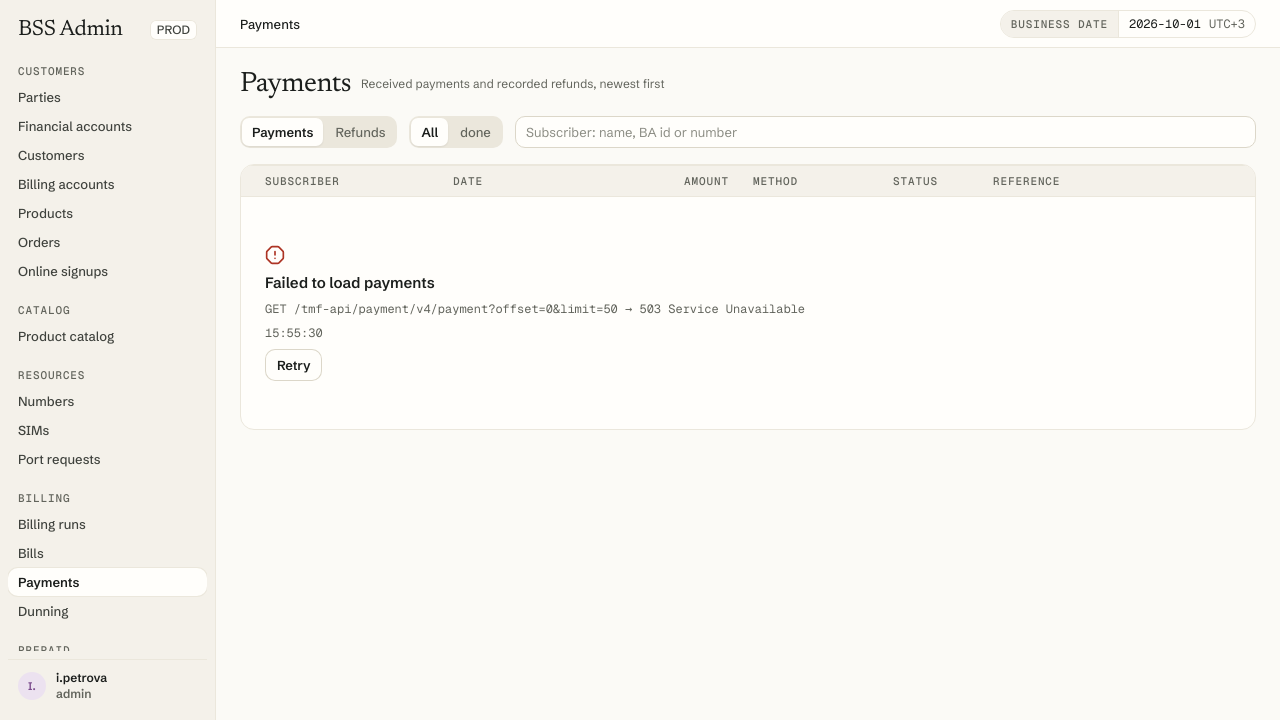
Scenario: payments screen › shows the error with Retry and the empty state
The width and height of the screenshot is (1280, 720).
Expected: the text "Failed to load payments" is shown, [265,273,435,293]
Click the button "Retry".
click(294, 365)  # box [265,349,322,381]
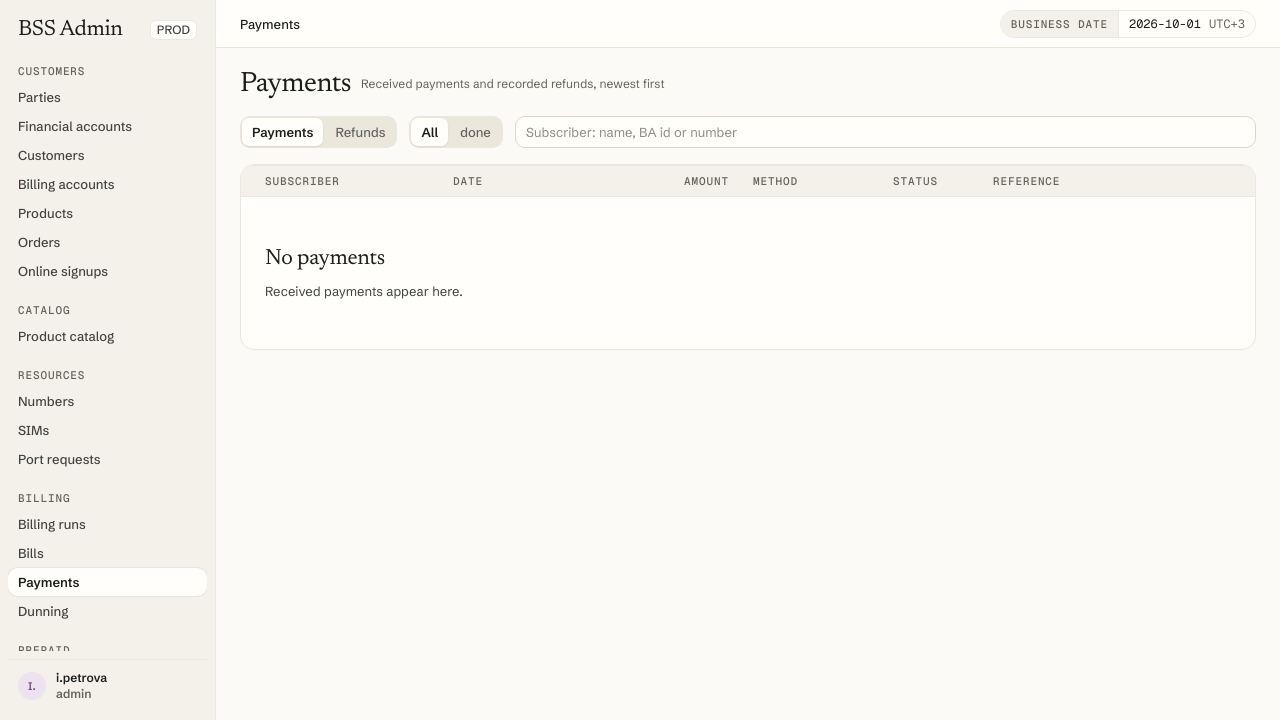
Expected: the text "No payments" is shown, [265,245,385,273]
